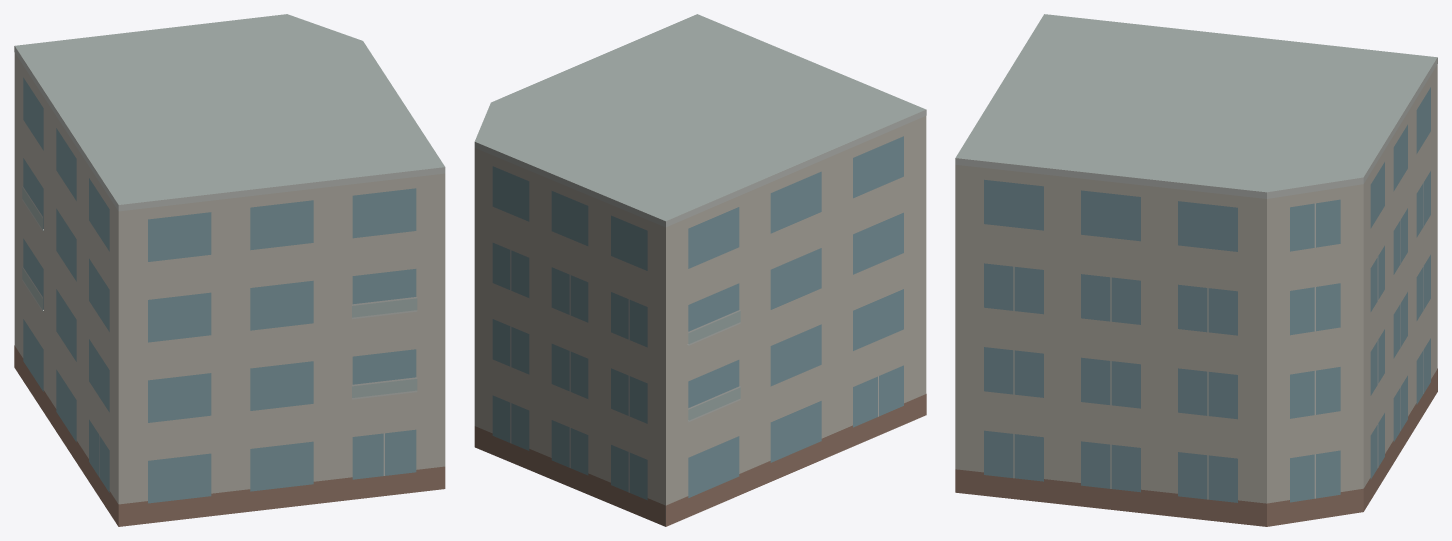
The model's file is residential-06eb9640-f3a0-4c73-9b50-8959bd15f208.glb.
3 renders of one model, left to right at view 1: azimuth 30°, elevation 25°; view 2: azimuth 150°, elevation 25°; view 3: azimuth 270°, elevation 25°, orthographic. The views are drawn at different scales.
Visible parts, largest first — view 1: residential-06eb9640-f3a0-4c73-9b50-8959bd15f208.tmp; view 2: residential-06eb9640-f3a0-4c73-9b50-8959bd15f208.tmp; view 3: residential-06eb9640-f3a0-4c73-9b50-8959bd15f208.tmp.
Part boxes in pixels (bbox=[...]): residential-06eb9640-f3a0-4c73-9b50-8959bd15f208.tmp: bbox=[14, 14, 445, 526]; residential-06eb9640-f3a0-4c73-9b50-8959bd15f208.tmp: bbox=[474, 14, 926, 526]; residential-06eb9640-f3a0-4c73-9b50-8959bd15f208.tmp: bbox=[955, 14, 1437, 526].
Size of the model in its own units: 13.96 by 12.2 by 15.95.
